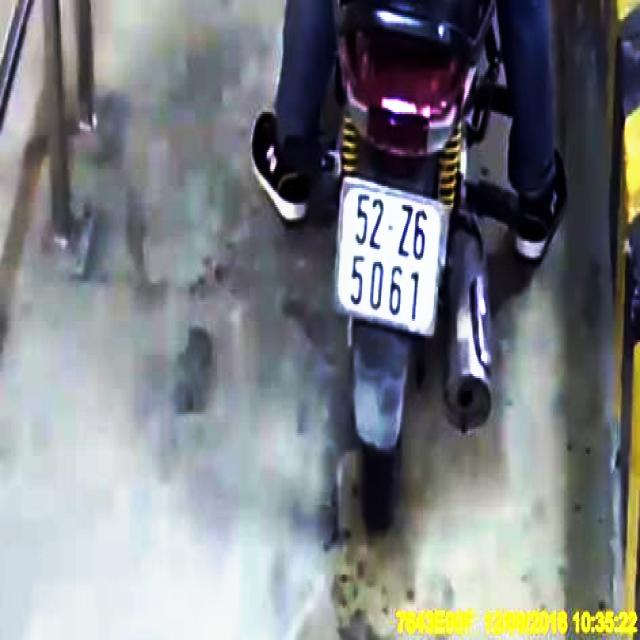license_plate: (337, 179, 447, 337)
